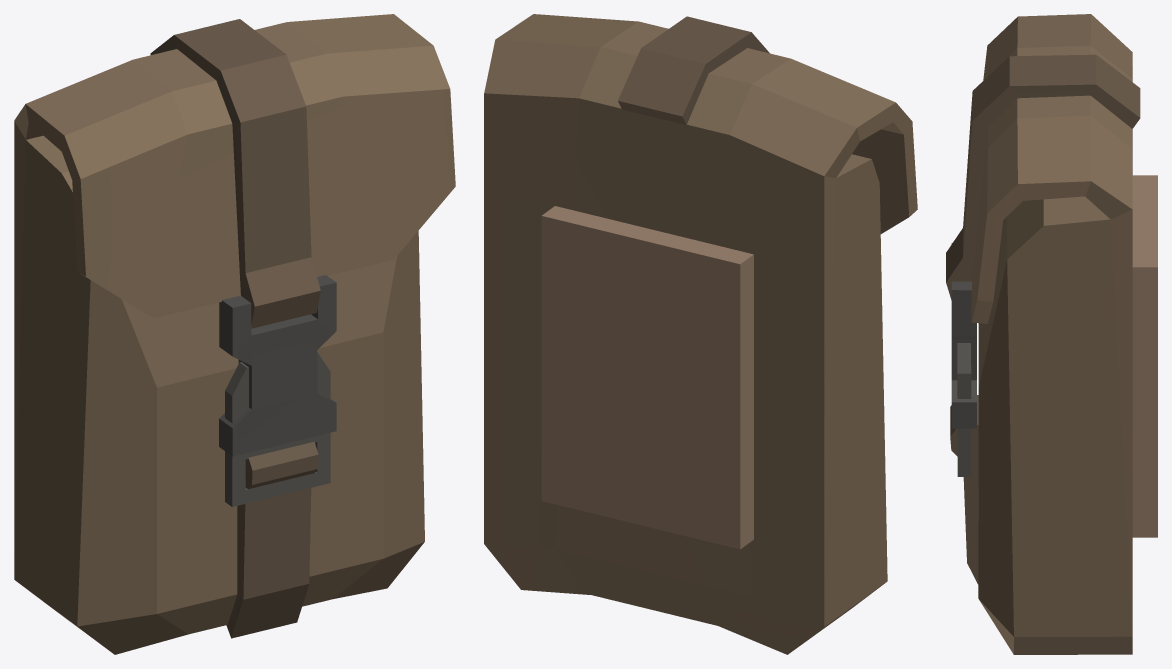
Rendered from Pouch_02_SM.FBX.
The picture shows the model from 3 angles, left to right: view 1: azimuth 30°, elevation 25°; view 2: azimuth 150°, elevation 25°; view 3: azimuth 270°, elevation 25°; orthographic projection. The views are drawn at different scales.
Visible parts, largest first — view 1: Pouch_02_SM; view 2: Pouch_02_SM; view 3: Pouch_02_SM.
Boxes of the visible parts, x1,y1,x2,y2 form: Pouch_02_SM: (14, 14, 455, 654); Pouch_02_SM: (484, 14, 917, 654); Pouch_02_SM: (946, 14, 1157, 654).
Size of what is drawn, in the model's own units: 11.54 by 6.16 by 16.78.
